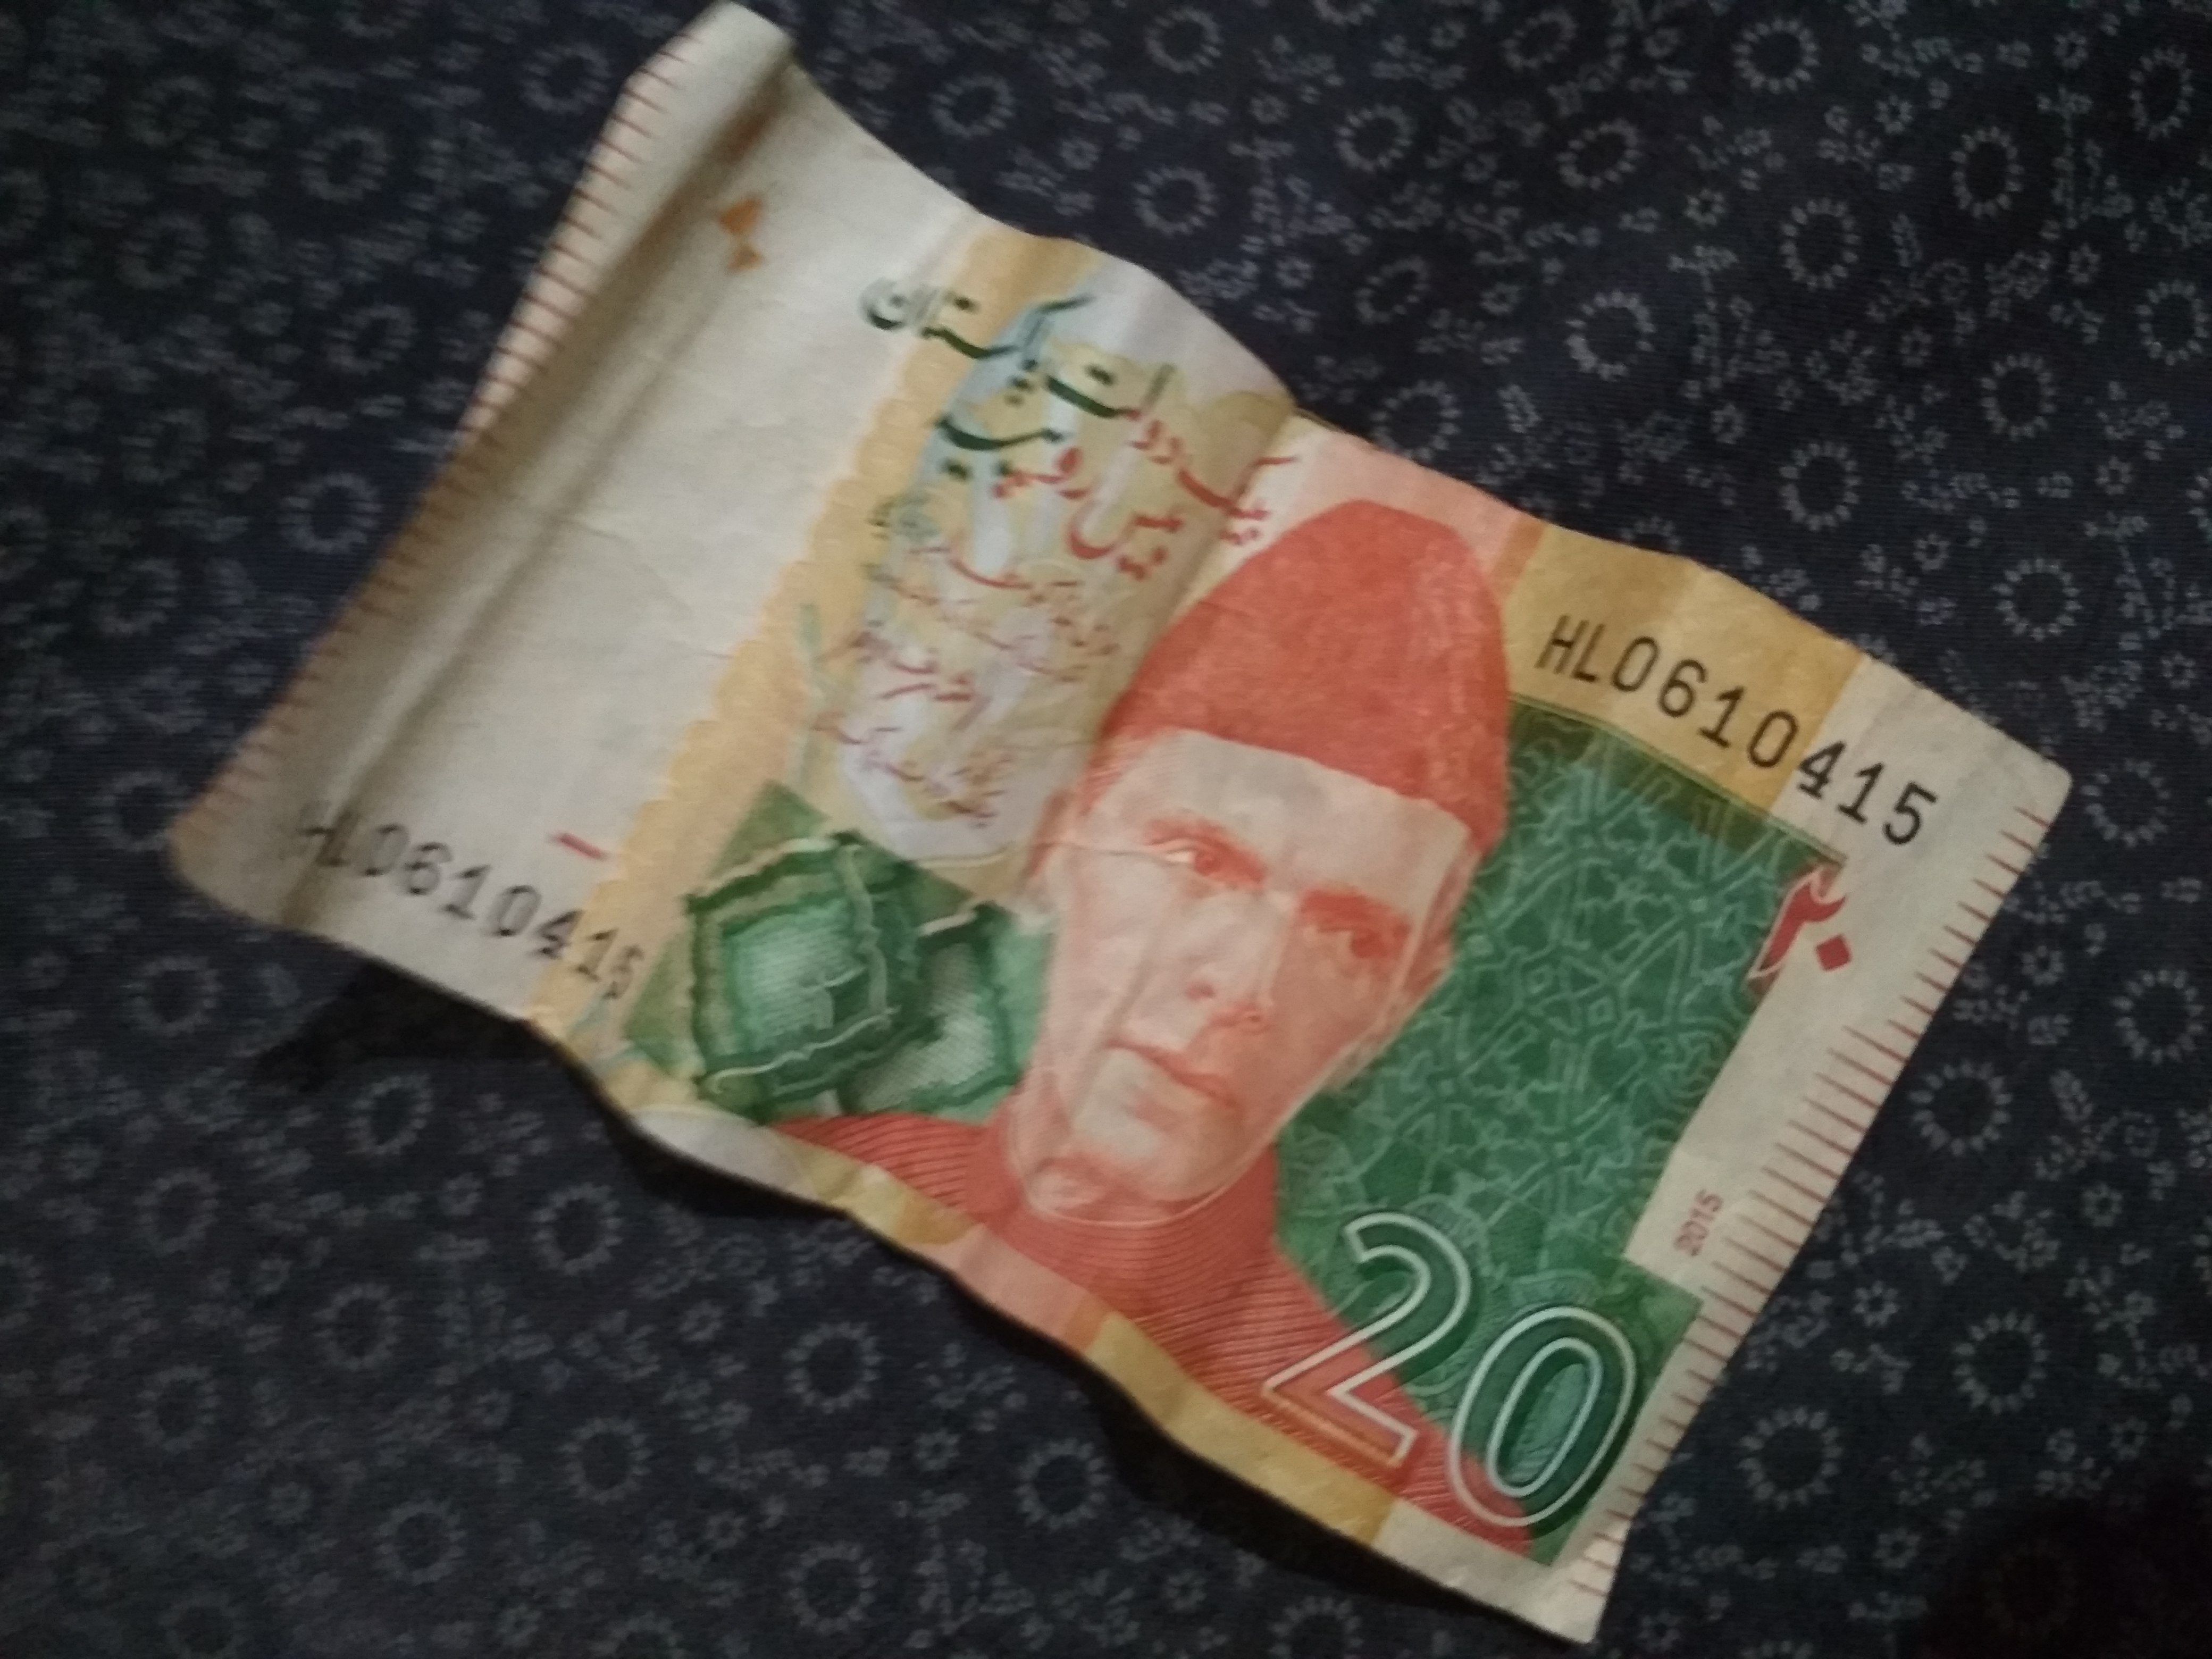20 rupee: (99, 56, 2123, 1642)
